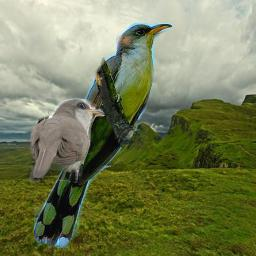Cuckoo: (34, 23, 172, 248), (27, 98, 105, 183)
